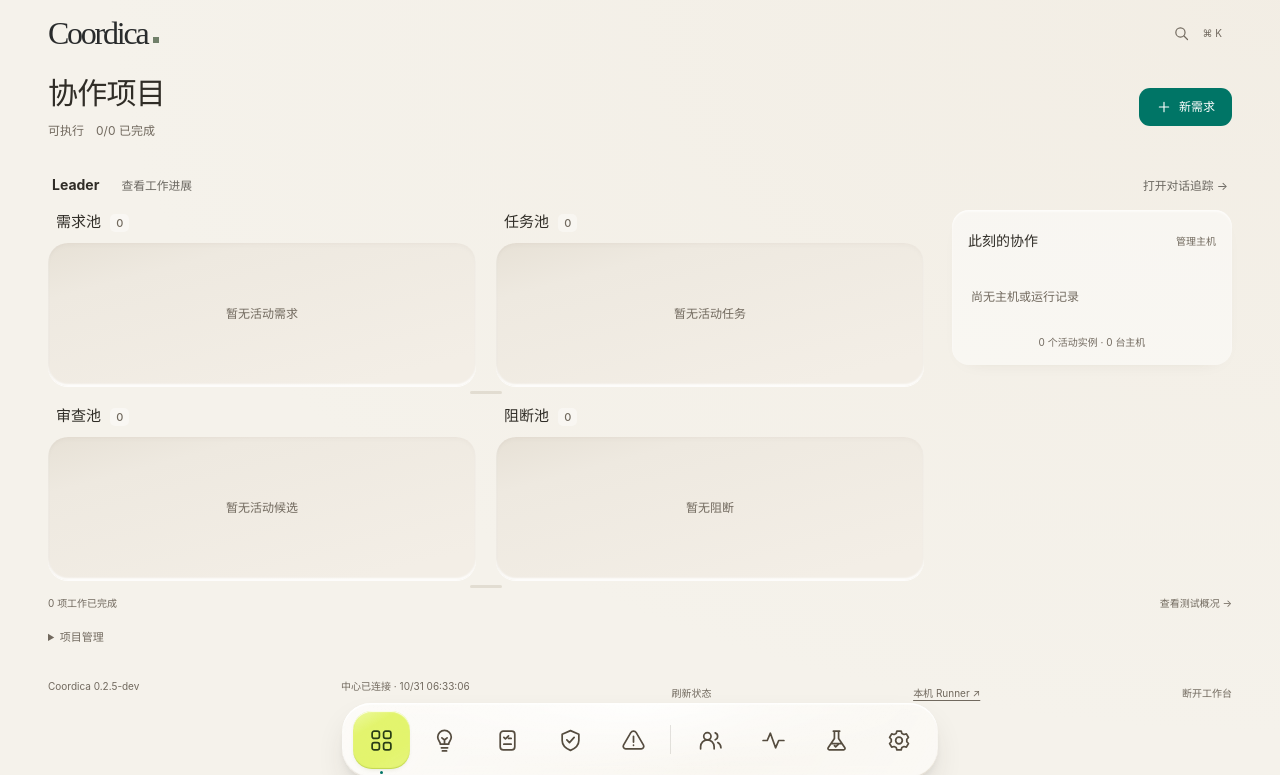
Test case: keeps connection failures and stale snapshot visible above the current page
Expected: the heading "协作项目" is shown, [48, 74, 165, 113]
Click the button with aria-label "刷新中心状态". click: [691, 694]
box: [671, 679, 711, 708]
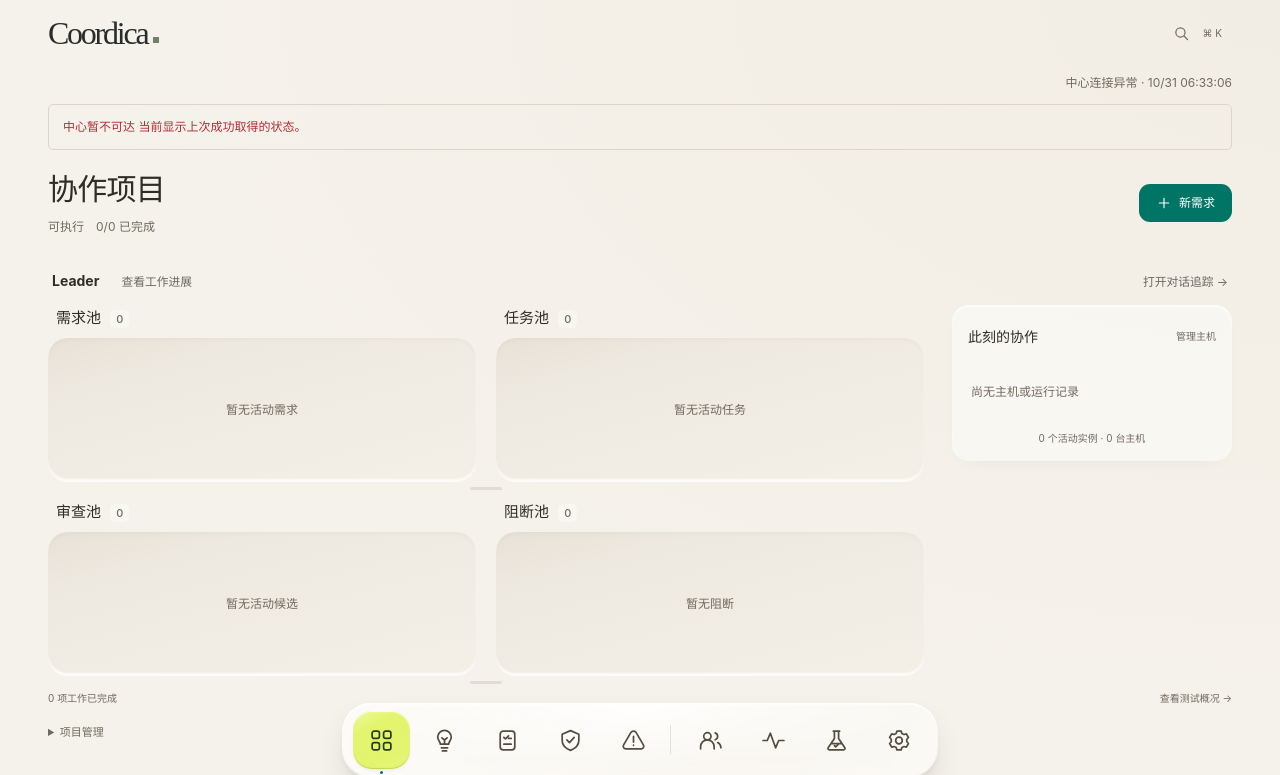
Now the text "中心暂不可达 当前显示上次成功取得的状态。" is shown, box [48, 104, 1232, 150]
Now the text "中心连接异常 · 10/31 06:33:06" is shown, box [1066, 75, 1232, 90]
Now the text "中心已连接" is gone
